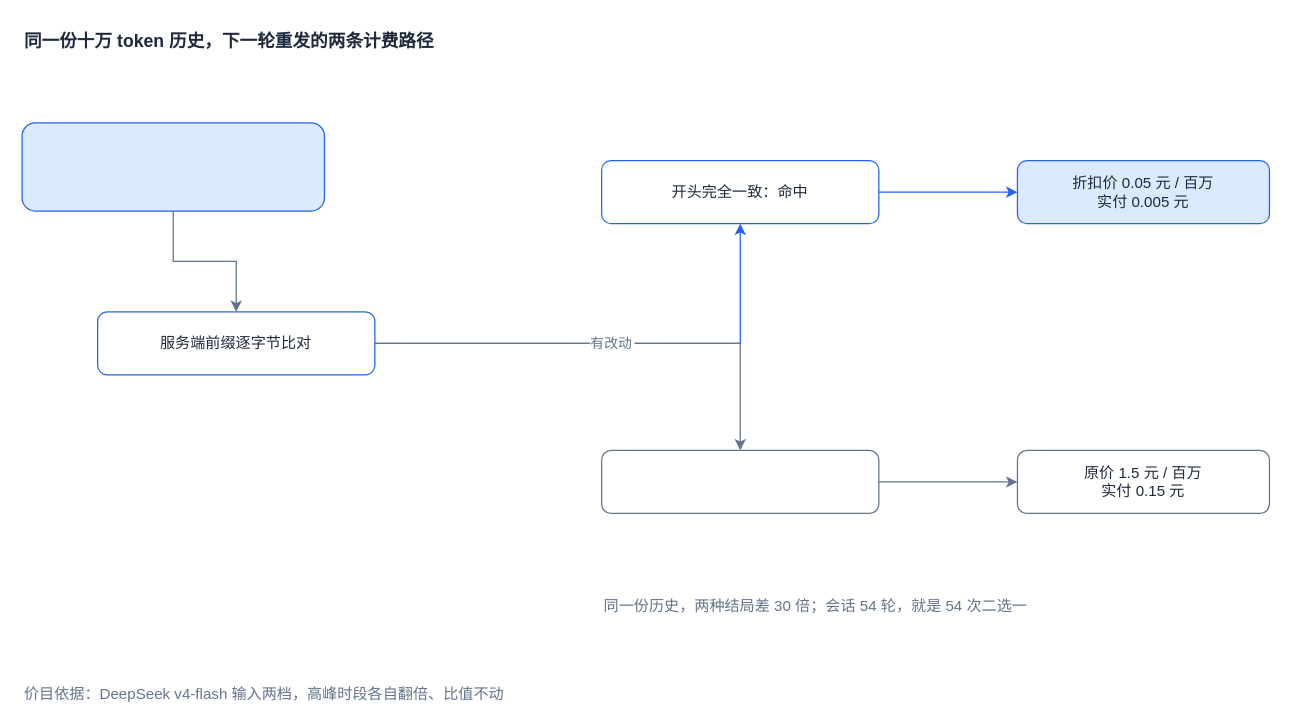
Image size: 1292x725. Some labels were removed from this diagram. Here are the shapes that lost their labels. From the top down, the centre of each, then its label:
point 172,166: 下一轮请求：重发十万 token 会话历史
point 739,481: 中途一个字节变了：未命中
